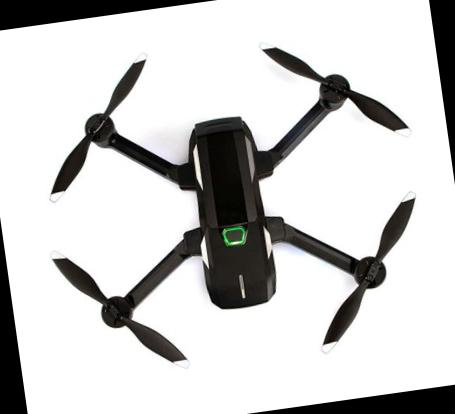drone: (3, 17, 445, 403)
